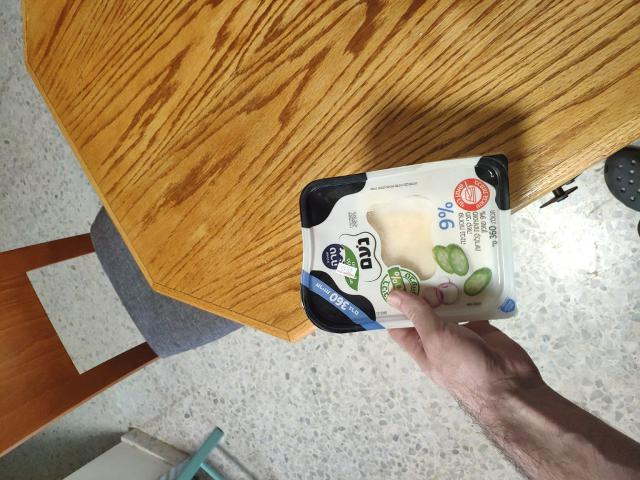cheese: (270, 181, 553, 344)
